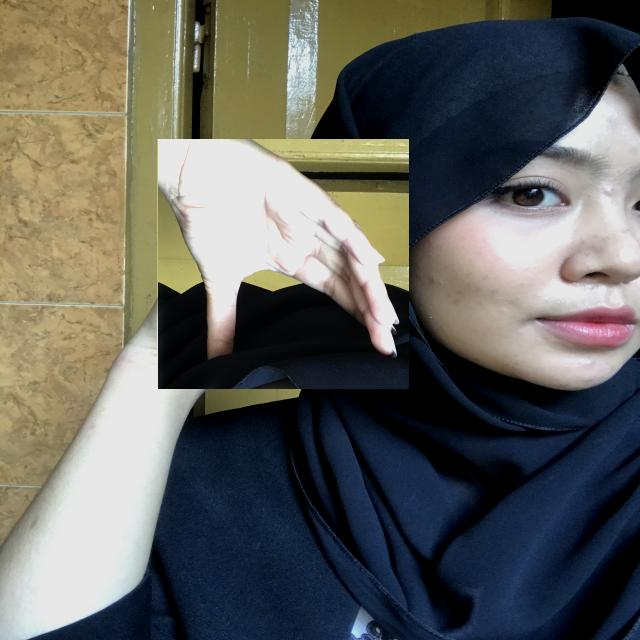mendengar: (157, 139, 409, 389)
